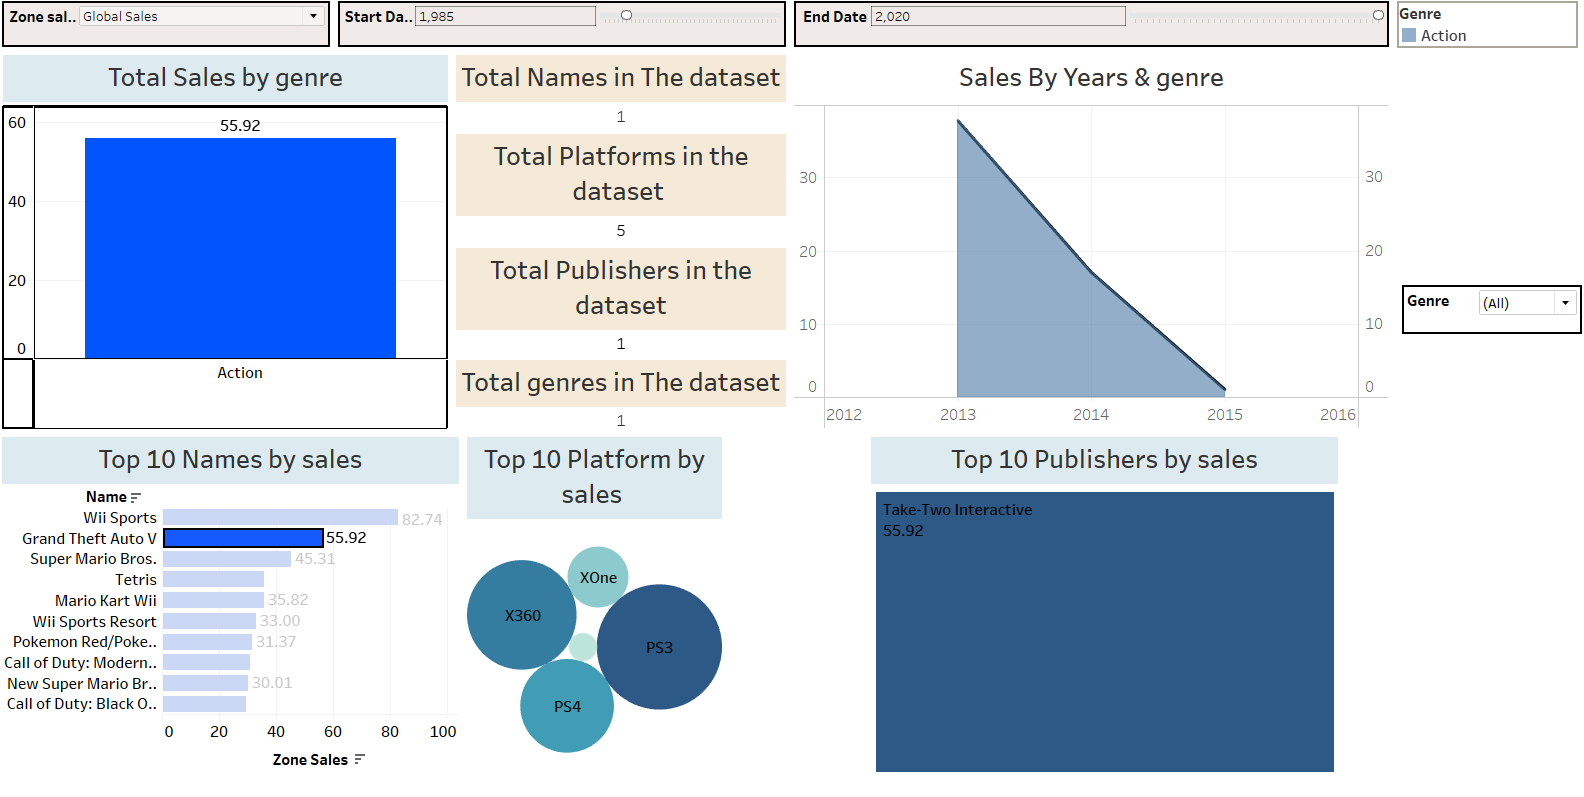

The page's visual inventory and layout, read from the dashboard file:
{"tool":"tableau","page":{"name":"Dashboard 1","canvas":[1600,800],"ordinal":0},"visuals":[{"type":"parameter","param":"[Parameters].[Parameter 1]","box":[8,8,335.9,54.2]},{"type":"parameter","param":"[Parameters].[Parameter 2]","box":[343.9,8,456.1,54.2]},{"type":"parameter","param":"[Parameters].[Parameter 3]","box":[800,8,603,54.1]},{"type":"legend","title":"Sales By Years & genre","param":"[federated.1r04z5p13ozcyf11vr9y218jxkxl].[none:Genre:nk]","box":[1403,8,189,286]},{"type":"worksheet","title":"Sales By Years & genre","mark":"Area","rows":["Calculation_238690834708021248","Calculation_238690834708021248"],"cols":["Year"],"box":[800,62.1,603,382.2]},{"type":"worksheet","title":"Total Sales by genre","mark":"Automatic","rows":["Calculation_238690834708021248"],"cols":["Genre"],"box":[8,62.2,454,382.2]},{"type":"worksheet","title":"Total Names in The dataset","mark":"Automatic","box":[462,62.2,338,78.8]},{"type":"worksheet","title":"Total Platforms in the dataset ","mark":"Automatic","box":[462,141,338,114]},{"type":"worksheet","title":"Total Publishers in the dataset","mark":"Automatic","box":[462,255,338,112]},{"type":"filter","title":"Sales By Years & genre","param":"[federated.1r04z5p13ozcyf11vr9y218jxkxl].[none:Genre:nk]","box":[1412,296,180,49]},{"type":"worksheet","title":"Total genres in The dataset ","mark":"Automatic","box":[462,367,338,77.3]},{"type":"worksheet","title":"Top 10 Names by sales","mark":"Automatic","rows":["Name"],"cols":["Calculation_238690834708021248"],"box":[8,444.3,464.7,347.7]},{"type":"worksheet","title":"Top 10 Platform by sales ","mark":"Circle","box":[472.7,444.3,445.1,347.7]},{"type":"worksheet","title":"Top 10 Publishers by sales","mark":"Automatic","box":[917.8,444.3,485.2,347.7]}]}

Visuals, with their boxes on the page's 1600x800 design canvas (x1, y1, x2, y2). These are canvas units, not pixel positions in the 1584x797 screenshot, which may show the page scaled, cropped or inside an application window:
parameter: {"left": 8, "top": 8, "right": 344, "bottom": 62}
parameter: {"left": 344, "top": 8, "right": 800, "bottom": 62}
parameter: {"left": 800, "top": 8, "right": 1403, "bottom": 62}
"Sales By Years & genre" legend: {"left": 1403, "top": 8, "right": 1592, "bottom": 294}
"Sales By Years & genre" worksheet (Area marks): {"left": 800, "top": 62, "right": 1403, "bottom": 444}
"Total Sales by genre" worksheet: {"left": 8, "top": 62, "right": 462, "bottom": 444}
"Total Names in The dataset" worksheet: {"left": 462, "top": 62, "right": 800, "bottom": 141}
"Total Platforms in the dataset " worksheet: {"left": 462, "top": 141, "right": 800, "bottom": 255}
"Total Publishers in the dataset" worksheet: {"left": 462, "top": 255, "right": 800, "bottom": 367}
"Sales By Years & genre" filter: {"left": 1412, "top": 296, "right": 1592, "bottom": 345}
"Total genres in The dataset " worksheet: {"left": 462, "top": 367, "right": 800, "bottom": 444}
"Top 10 Names by sales" worksheet: {"left": 8, "top": 444, "right": 473, "bottom": 792}
"Top 10 Platform by sales " worksheet (Circle marks): {"left": 473, "top": 444, "right": 918, "bottom": 792}
"Top 10 Publishers by sales" worksheet: {"left": 918, "top": 444, "right": 1403, "bottom": 792}
